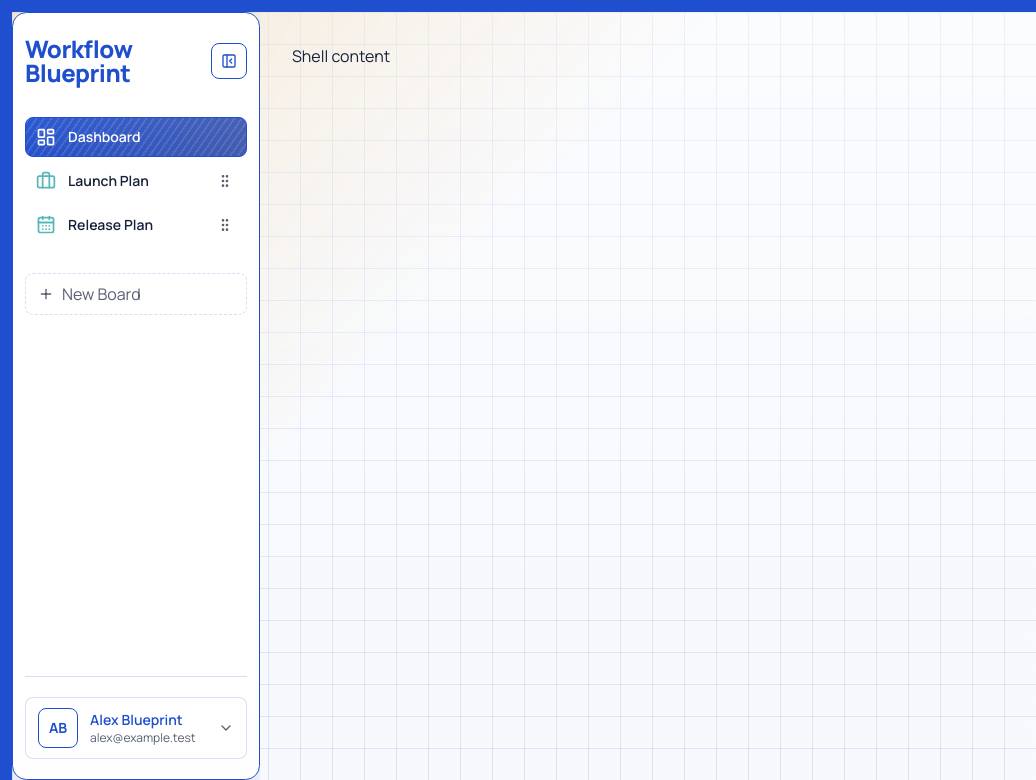
Scenario: AppShell account menu › closes the menu when a menu item is selected
Click the button with aria-label "Account menu" at {"x": 136, "y": 728}, box [25, 697, 247, 759]
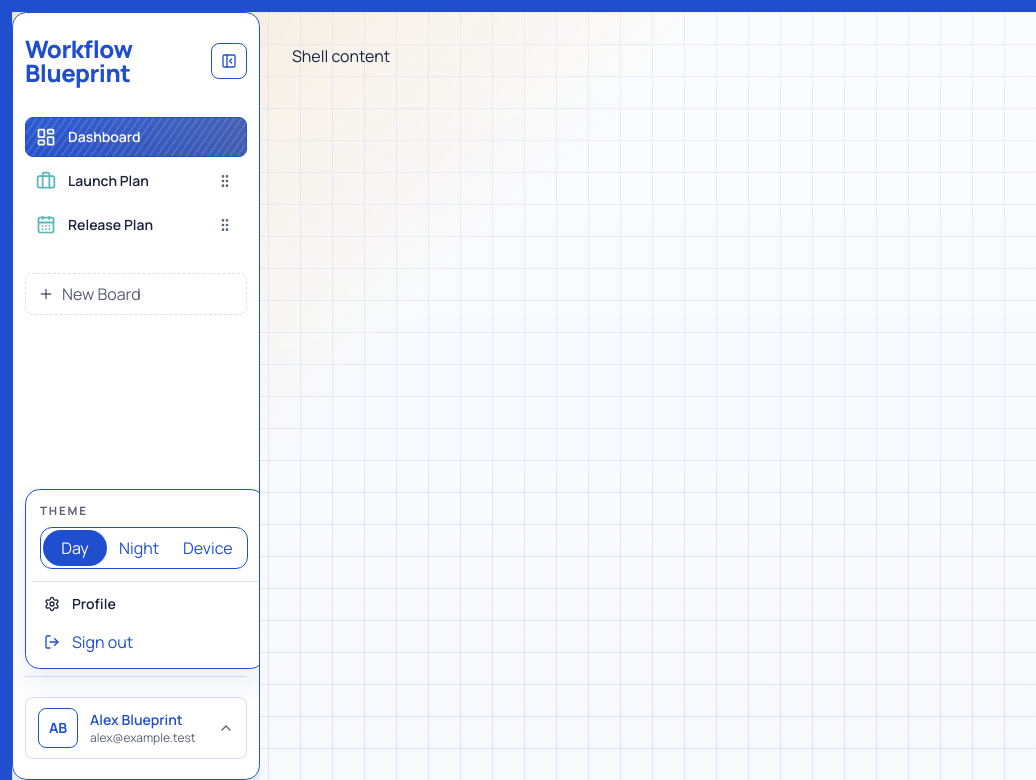
Click the menu item "Profile" at {"x": 80, "y": 604}, box [44, 594, 116, 613]
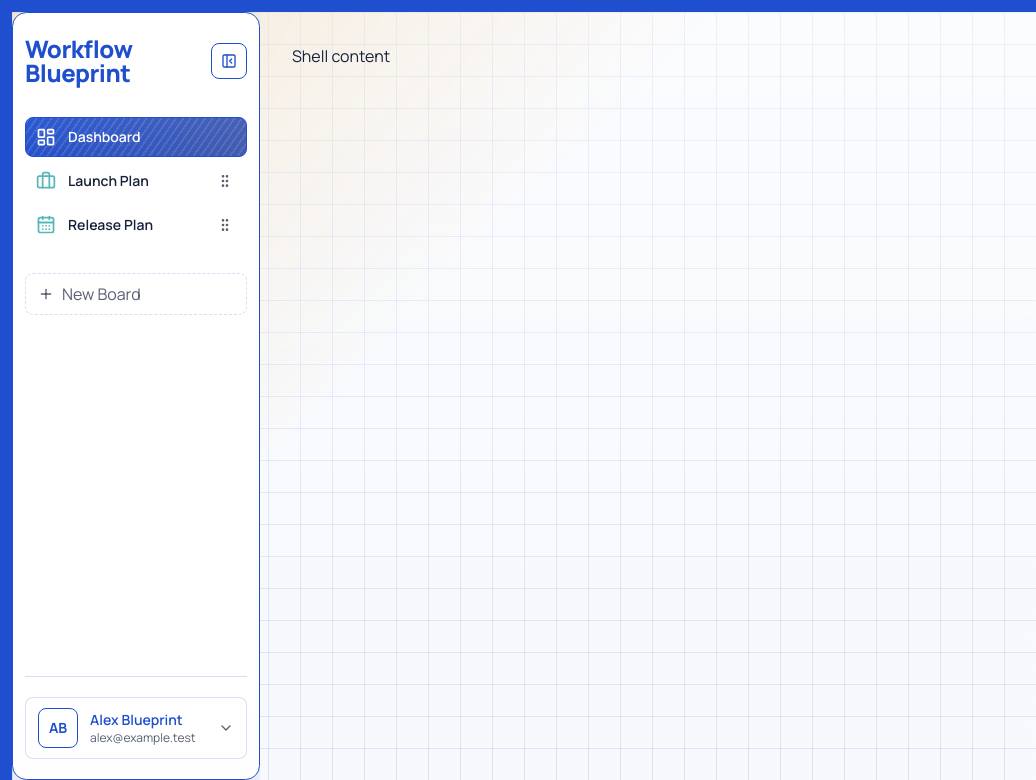
Expected: the menu is gone
